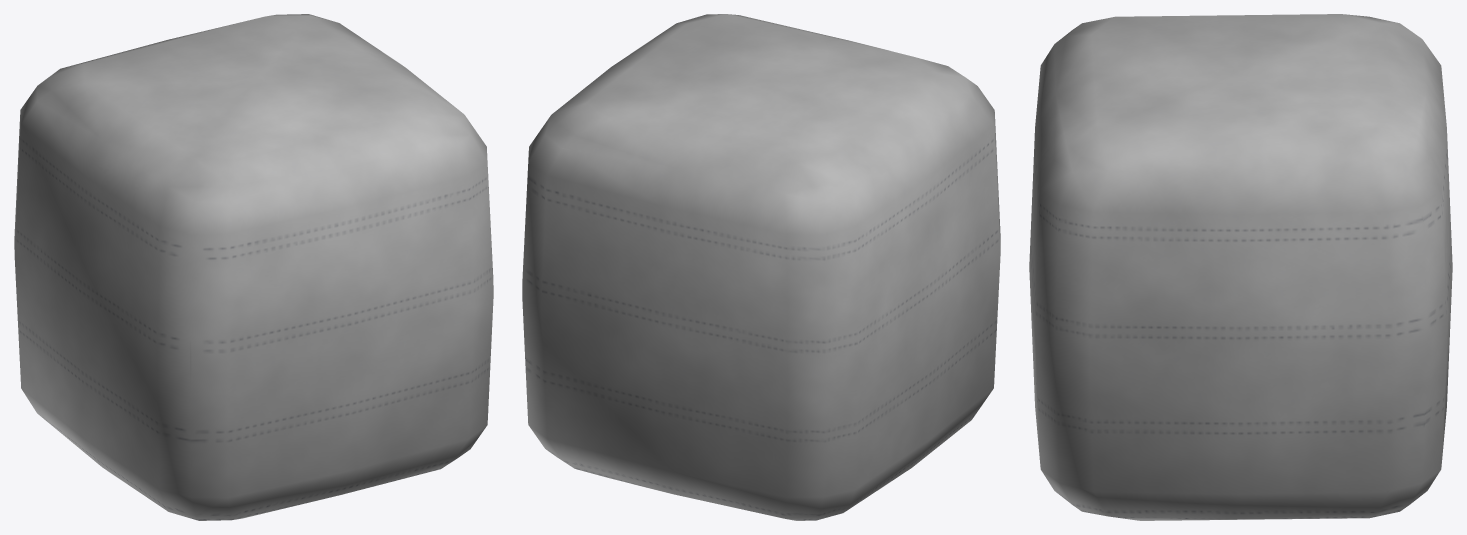
The model's file is RightUpperArm_C1.fbx.
The picture shows the model from 3 angles, left to right: view 1: azimuth 30°, elevation 25°; view 2: azimuth 150°, elevation 25°; view 3: azimuth 270°, elevation 25°; orthographic projection. The views are drawn at different scales.
Parts seen in each view (by area): view 1: Civ_BuzoCapucha_RightUpperArm_C1; view 2: Civ_BuzoCapucha_RightUpperArm_C1; view 3: Civ_BuzoCapucha_RightUpperArm_C1.
Boxes of the visible parts, box(x1,y1,x2,y2) form: Civ_BuzoCapucha_RightUpperArm_C1: box(14, 14, 493, 520); Civ_BuzoCapucha_RightUpperArm_C1: box(522, 14, 1000, 520); Civ_BuzoCapucha_RightUpperArm_C1: box(1029, 14, 1452, 520).
Bounding box in the file's own units: 1.29 × 1.31 × 1.29.
